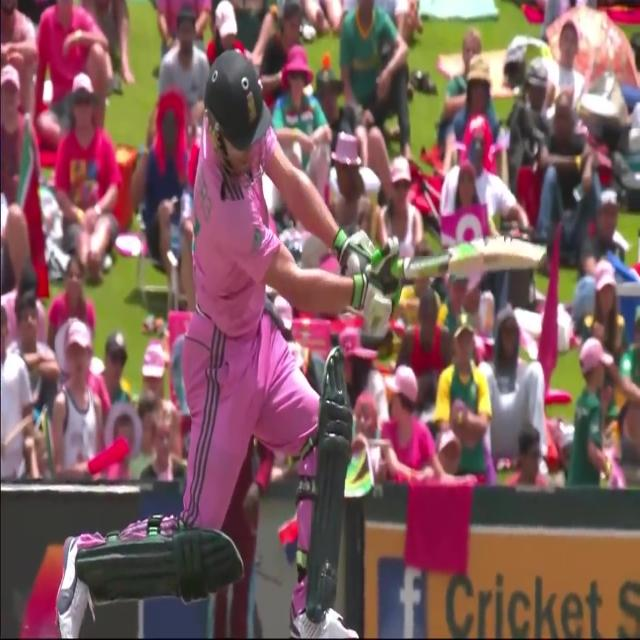Ball: (55, 49, 398, 639)
